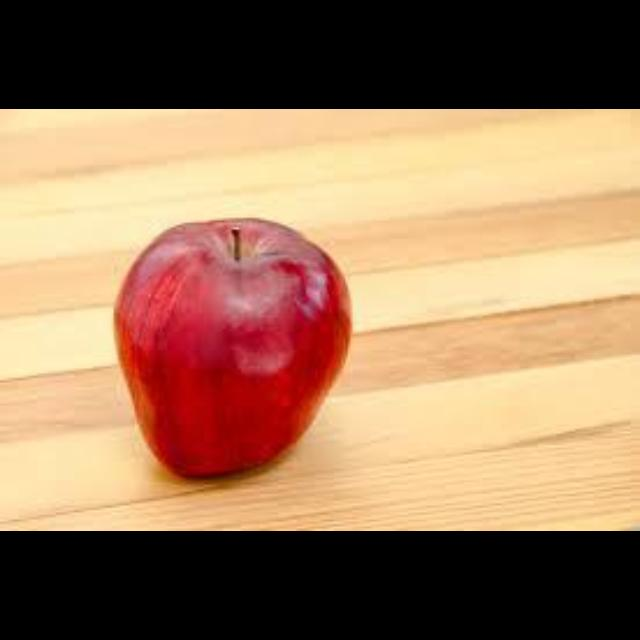apple: (116, 218, 350, 475)
